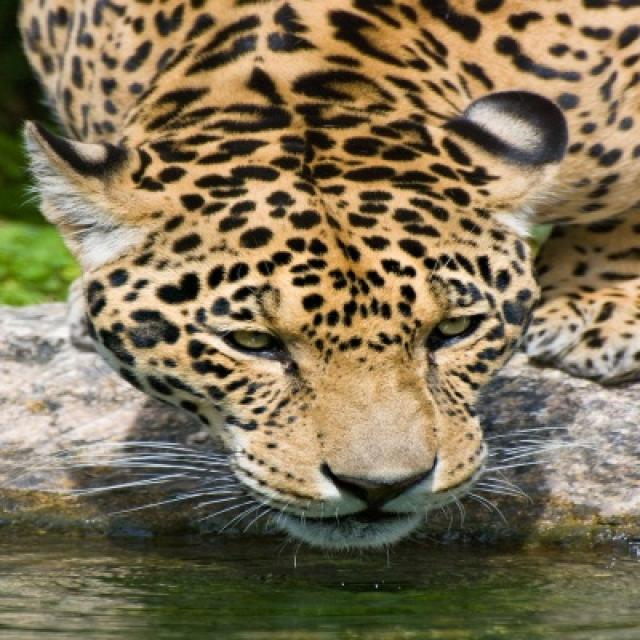Jaguar: (22, 0, 638, 552)
